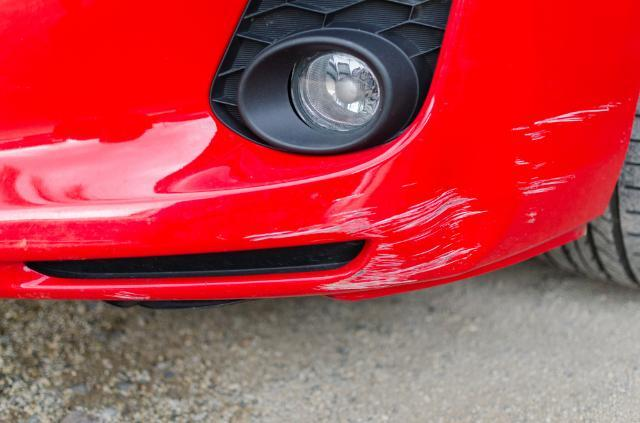scratch: (240, 181, 495, 295), (511, 96, 621, 224)
